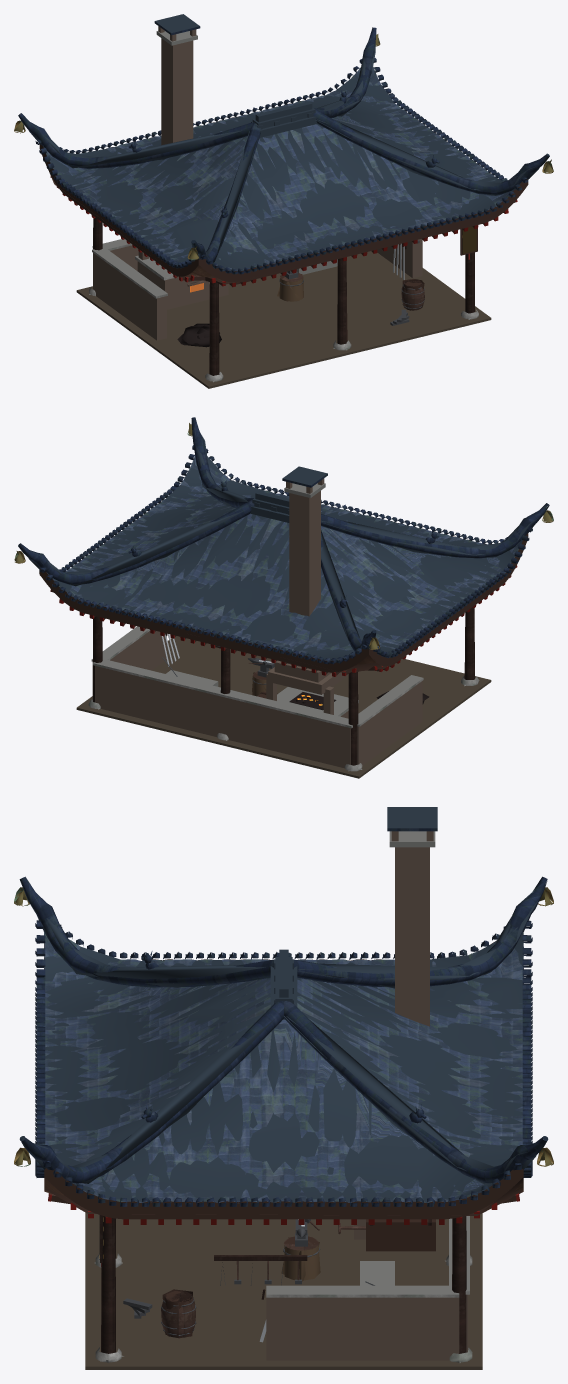
The model's file is prop_smithy.gltf.
The picture shows the model from 3 angles, top to bottom: view 1: azimuth 30°, elevation 25°; view 2: azimuth 150°, elevation 25°; view 3: azimuth 270°, elevation 25°; orthographic projection. The views are drawn at different scales.
Visible parts, largest first — view 1: Far, Near; view 2: Far, Near; view 3: Far, Near.
Boxes of the visible parts, x1,y1,x2,y2 form: Far: (14,14,553,386); Near: (14,21,553,388); Far: (15,423,552,776); Near: (14,417,553,778); Far: (15,807,552,1366); Near: (14,828,553,1369).
Size of the model in its own units: 10.85 by 7.68 by 9.24.
20 materials, 12 textured.
